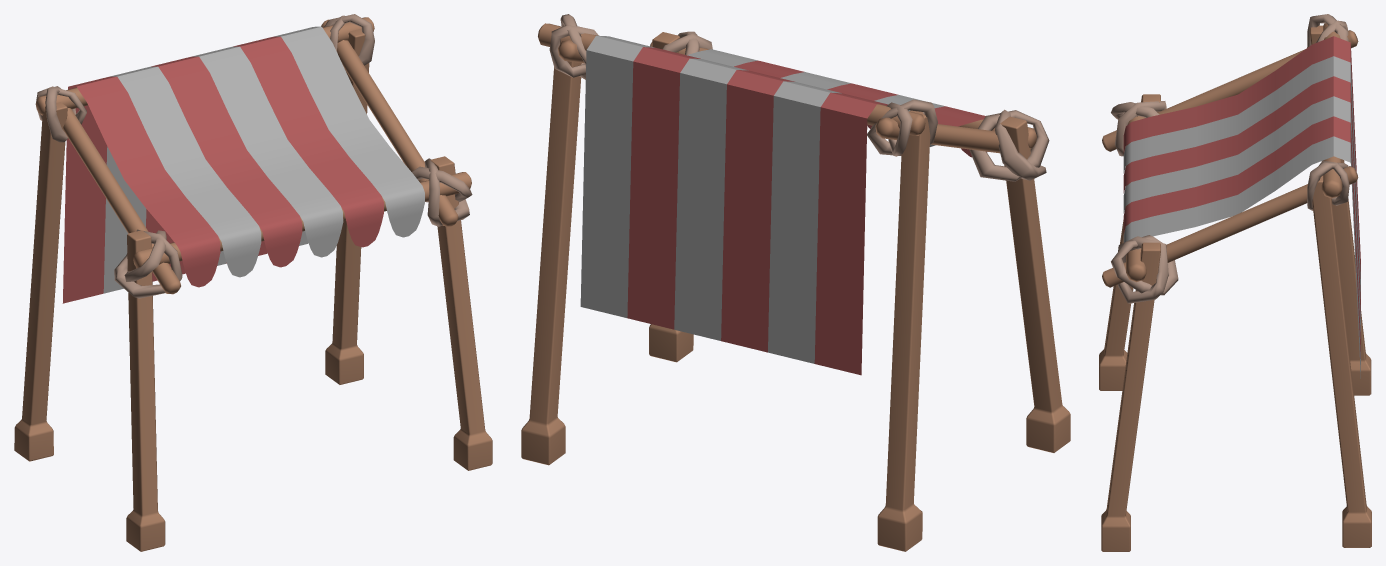
Rendered from Market frame.fbx.
The picture shows the model from 3 angles, left to right: view 1: azimuth 30°, elevation 25°; view 2: azimuth 150°, elevation 25°; view 3: azimuth 270°, elevation 25°; orthographic projection. The views are drawn at different scales.
Visible parts, largest first — view 1: Market; view 2: Market; view 3: Market.
Boxes of the visible parts, left/top/right/bottom form: Market: left=14, top=14, right=492, bottom=551; Market: left=521, top=14, right=1070, bottom=551; Market: left=1099, top=14, right=1371, bottom=551.
Bounding box in the file's own units: 698 × 706 × 464.
